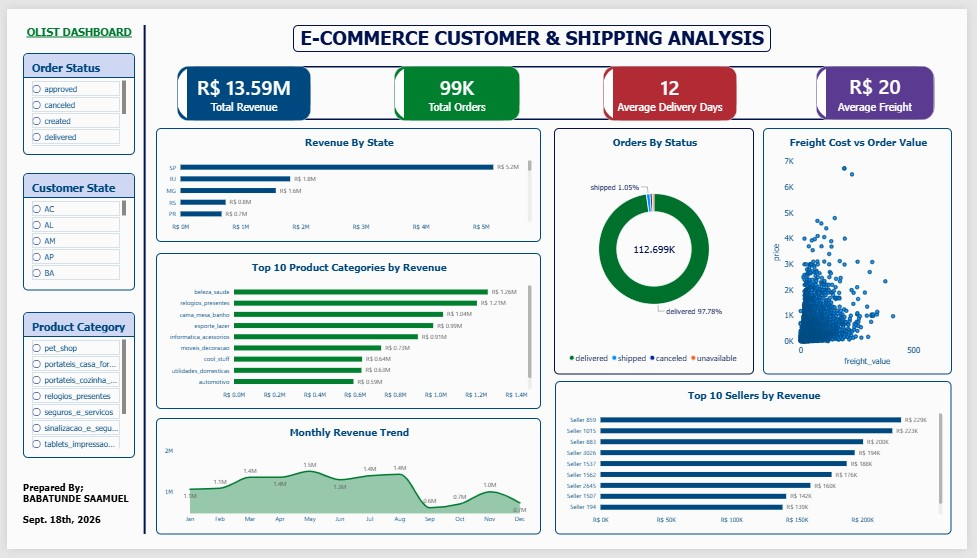

The dashboard page shown, as its layout file describes it:
{"tool":"powerbi","page":{"name":"Executive Dashboard","canvas":[1920,1080],"ordinal":1},"visuals":[{"type":"listSlicer","title":"Customer State","fields":{"Values":["Orders.customer_state"]},"box":[32,328,224.4,234.6],"z":0},{"type":"shape","box":[175.4,32.8,198.6,1017.8],"z":1000},{"type":"shape","box":[339.3,113.7,1515.2,108],"z":2000},{"type":"cardVisual","fields":{"Data":["Orders.Total Revenue"]},"box":[340,114,268,110],"z":3000},{"type":"cardVisual","fields":{"Data":["Orders.Total Orders"]},"box":[774,114,252,110],"z":4000},{"type":"cardVisual","fields":{"Data":["Orders.Average Delivery Days"]},"box":[1192,114,268,110],"z":5000},{"type":"cardVisual","fields":{"Data":["Orders.Average Freight"]},"box":[1618,114,236,108],"z":6000},{"type":"clusteredBarChart","title":"Revenue by State","fields":{"Category":["Orders.customer_state"],"Y":["Orders.Total Revenue"]},"box":[298.7,237.9,769.5,227.8],"z":7000},{"type":"listSlicer","title":"Order Status","fields":{"Values":["Orders.order_status"]},"box":[32.1,87.8,224.4,204.2],"z":8000},{"type":"lineChart","title":"Monthly Revenue Trend ","fields":{"Category":["DimDate.Month"],"Y":["DimDate.Monthly Revenue"]},"box":[298.7,818.4,769.5,232.9],"z":9000},{"type":"donutChart","title":"Orders by Status","fields":{"Category":["Orders.order_status"],"Y":["CountNonNull(Orders.order_status)"]},"box":[1094,238,400,492],"z":10000},{"type":"clusteredBarChart","title":"Top 10 Product Categories by Revenue","fields":{"Category":["Products.product_category_name"],"Y":["DimDate.Product Revenue"]},"box":[298.7,487.7,769.5,312.2],"z":11000},{"type":"barChart","title":"Top 10 Sellers by Revenue ","fields":{"Category":["Orders.Seller Label"],"Y":["Sellers.Seller Revenue"]},"box":[1096.9,744.2,793.1,307.1],"z":12000},{"type":"textbox","box":[572.5,32.8,956.1,54],"z":13000},{"type":"textbox","box":[32.1,32.1,224.4,37.1],"z":14000},{"type":"listSlicer","title":"Product Category","fields":{"Values":["Products.product_category_name"]},"box":[32,606,224.4,291.9],"z":15000},{"type":"scatterChart","title":"Freight Cost vs Order Value","fields":{"X":["Orders.freight_value"],"Y":["Orders.price"]},"box":[1512,237.9,378,492.8],"z":16000},{"type":"textbox","box":[32.1,943.3,224.4,106.3],"z":17000}]}

Visuals, with their boxes in screenshot pixels (x1, y1, x2, y2), scaled from the page's 1920x1080 canvas onto the 977x558 screenshot:
"Customer State" listSlicer: [x1=16, y1=169, x2=130, y2=291]
shape: [x1=89, y1=17, x2=190, y2=543]
shape: [x1=173, y1=59, x2=944, y2=115]
cardVisual - Orders.Total Revenue: [x1=173, y1=59, x2=309, y2=116]
cardVisual - Orders.Total Orders: [x1=394, y1=59, x2=522, y2=116]
cardVisual - Orders.Average Delivery Days: [x1=607, y1=59, x2=743, y2=116]
cardVisual - Orders.Average Freight: [x1=823, y1=59, x2=943, y2=115]
"Revenue by State" clusteredBarChart: [x1=152, y1=123, x2=544, y2=241]
"Order Status" listSlicer: [x1=16, y1=45, x2=131, y2=151]
"Monthly Revenue Trend " lineChart: [x1=152, y1=423, x2=544, y2=543]
"Orders by Status" donutChart: [x1=557, y1=123, x2=760, y2=377]
"Top 10 Product Categories by Revenue" clusteredBarChart: [x1=152, y1=252, x2=544, y2=413]
"Top 10 Sellers by Revenue " barChart: [x1=558, y1=385, x2=962, y2=543]
textbox: [x1=291, y1=17, x2=778, y2=45]
textbox: [x1=16, y1=17, x2=131, y2=36]
"Product Category" listSlicer: [x1=16, y1=313, x2=130, y2=464]
"Freight Cost vs Order Value" scatterChart: [x1=769, y1=123, x2=962, y2=378]
textbox: [x1=16, y1=487, x2=131, y2=542]
